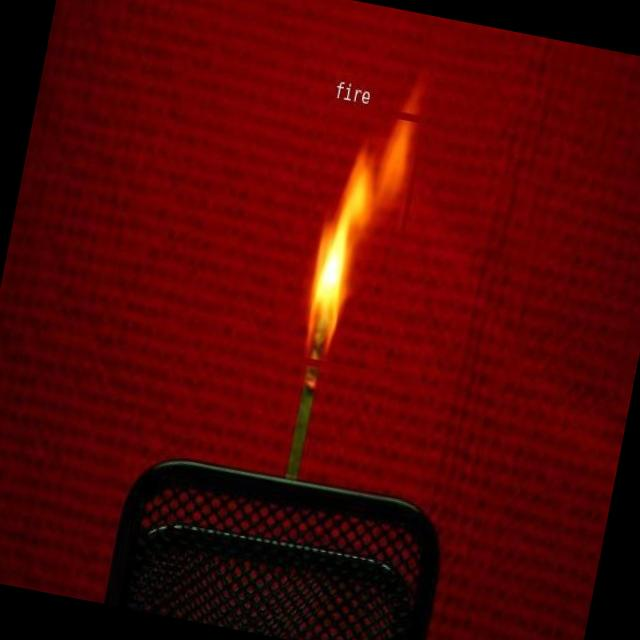fire: (281, 98, 427, 377)
